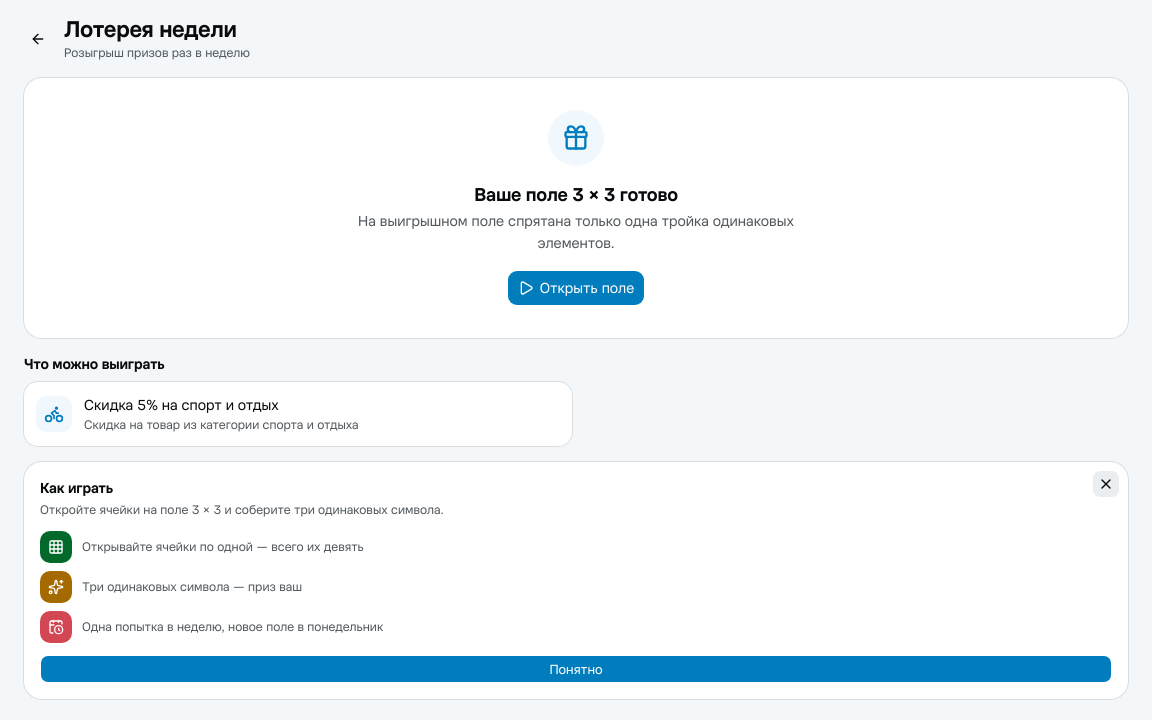
Test: WeeklyLotteryScreen › starts a weekly board with nine closed slots
Click the button "Открыть поле": (576, 288) [507,270,645,306]
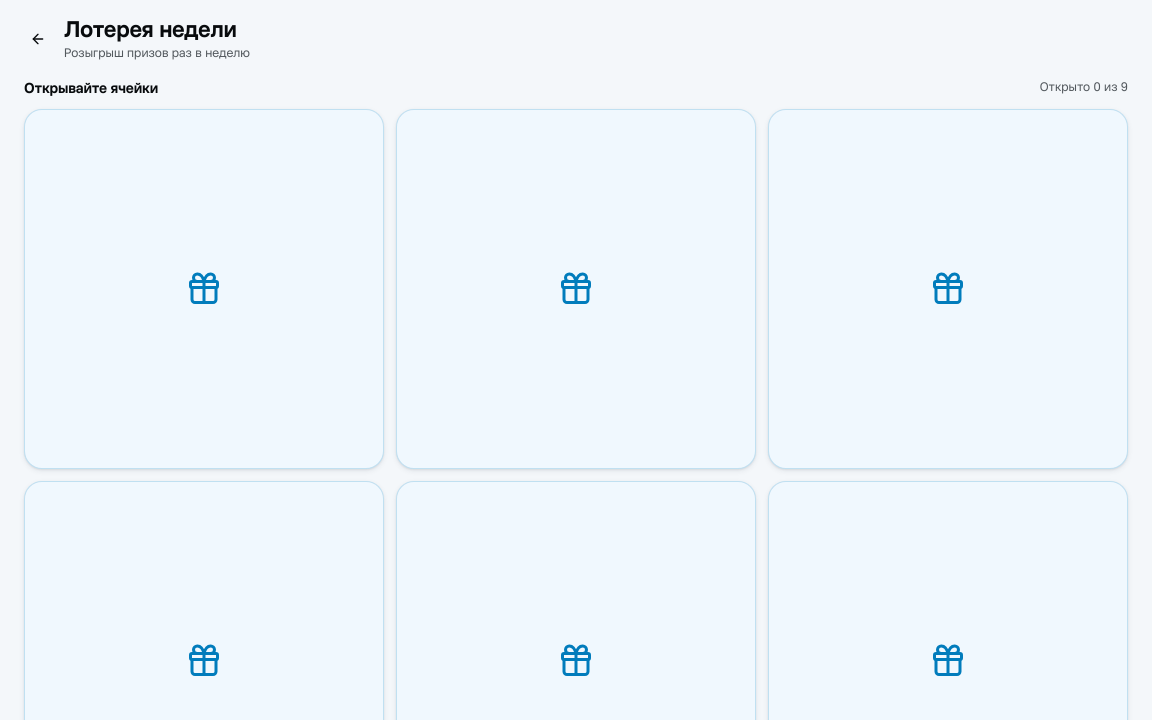
Expected: the number of buttons named "Открыть ячейку" is 9
